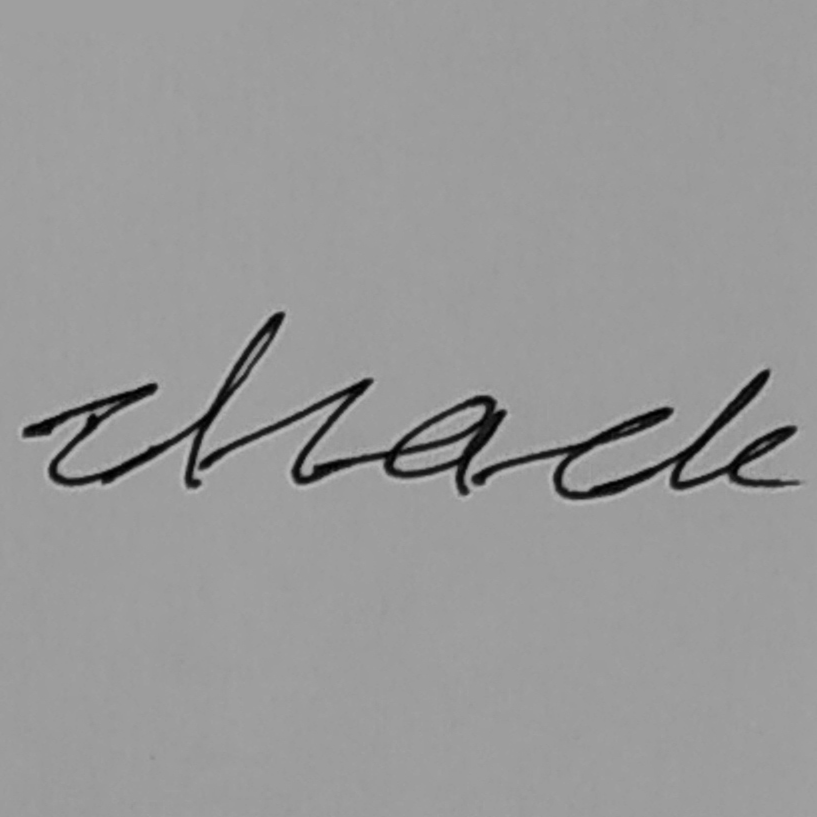a: (379, 391, 508, 497)
c: (43, 381, 161, 491), (547, 404, 678, 503)
h: (179, 310, 376, 495)
k: (667, 365, 804, 493)
